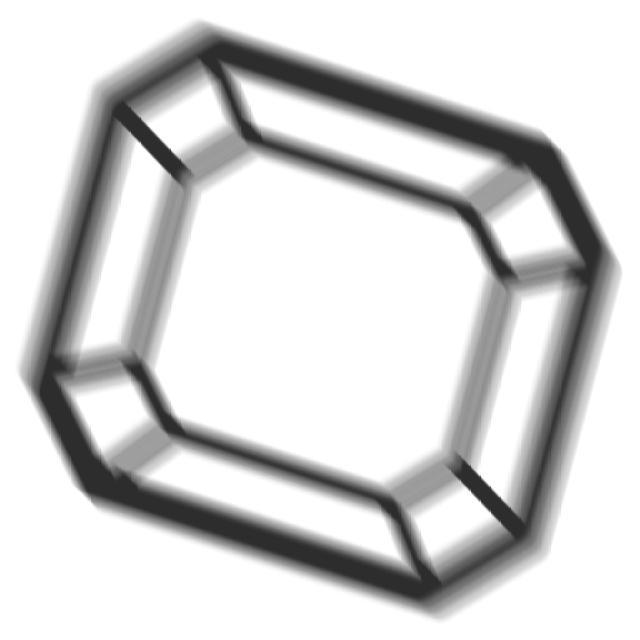emerald: (14, 14, 630, 628)
